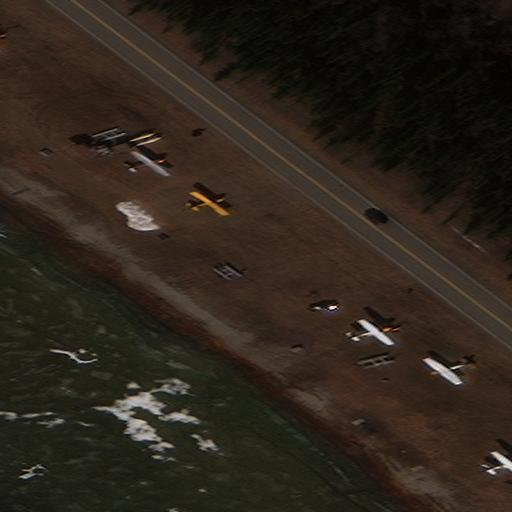Small Civil Transport: (422, 358, 471, 385), (350, 317, 394, 345), (127, 150, 169, 174), (189, 190, 229, 214), (483, 450, 512, 475)
